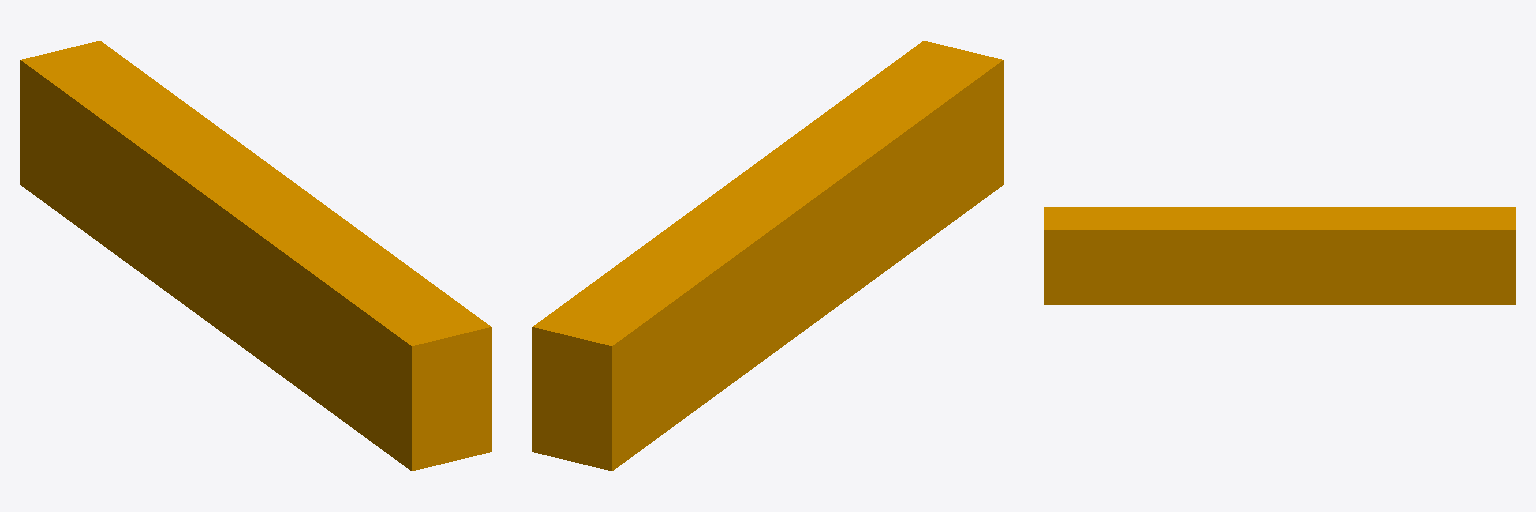
robot.urdf — obstacle_side:
<?xml version="1.0"?>
<robot name="obstacle_side">
    <link name="obstacle_side">
        <visual>
            <geometry>
                <mesh filename="../mesh/obstacle_side.obj" scale="1 1 1"/>
            </geometry>
        </visual>
        <collision>
            <geometry>
                <mesh filename="../mesh/obstacle_side.obj" scale="1 1 1"/>
            </geometry>
        </collision>
    </link>
</robot>

--- Facts derived from the render (not from the file) ---
The picture shows the robot from 3 angles, left to right: view 1: azimuth 30°, elevation 25°; view 2: azimuth 150°, elevation 25°; view 3: azimuth 270°, elevation 25°; orthographic projection.
Model obstacle_side with 1 links and 0 joints (none), rooted at obstacle_side, posed all joints at 0.
Links seen in each view (by area): view 1: obstacle_side; view 2: obstacle_side; view 3: obstacle_side.
Boxes of the visible links, x1,y1,x2,y2 form: obstacle_side: (20,41,491,470); obstacle_side: (532,41,1003,470); obstacle_side: (1044,207,1515,304).
Bounding box of the posed robot: 0.02 × 0.17 × 0.03 m (x, y, z).
1 mesh visuals loaded from 1 distinct referenced files (1 OBJ).